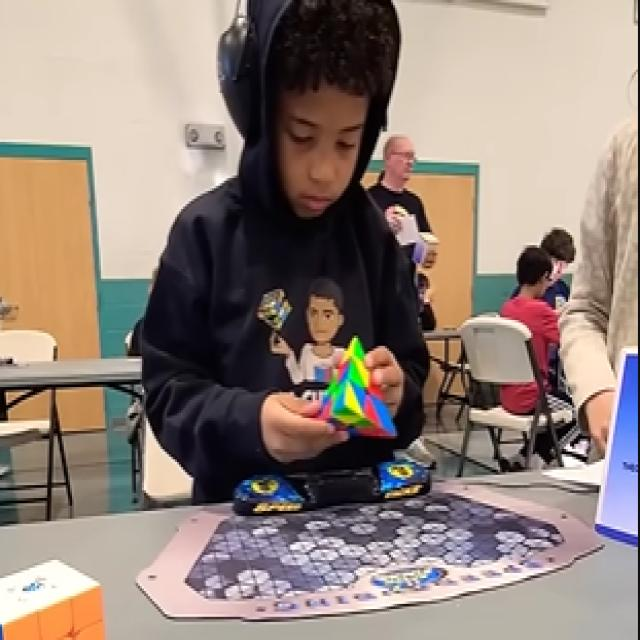Pyraminx: (307, 334, 408, 443)
